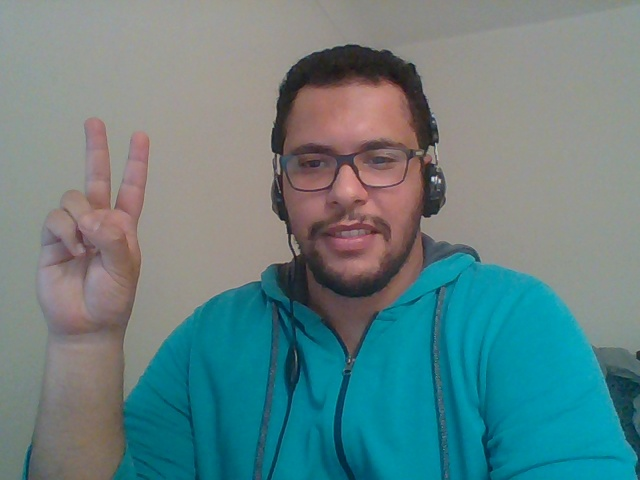vectory: (14, 104, 169, 362)
